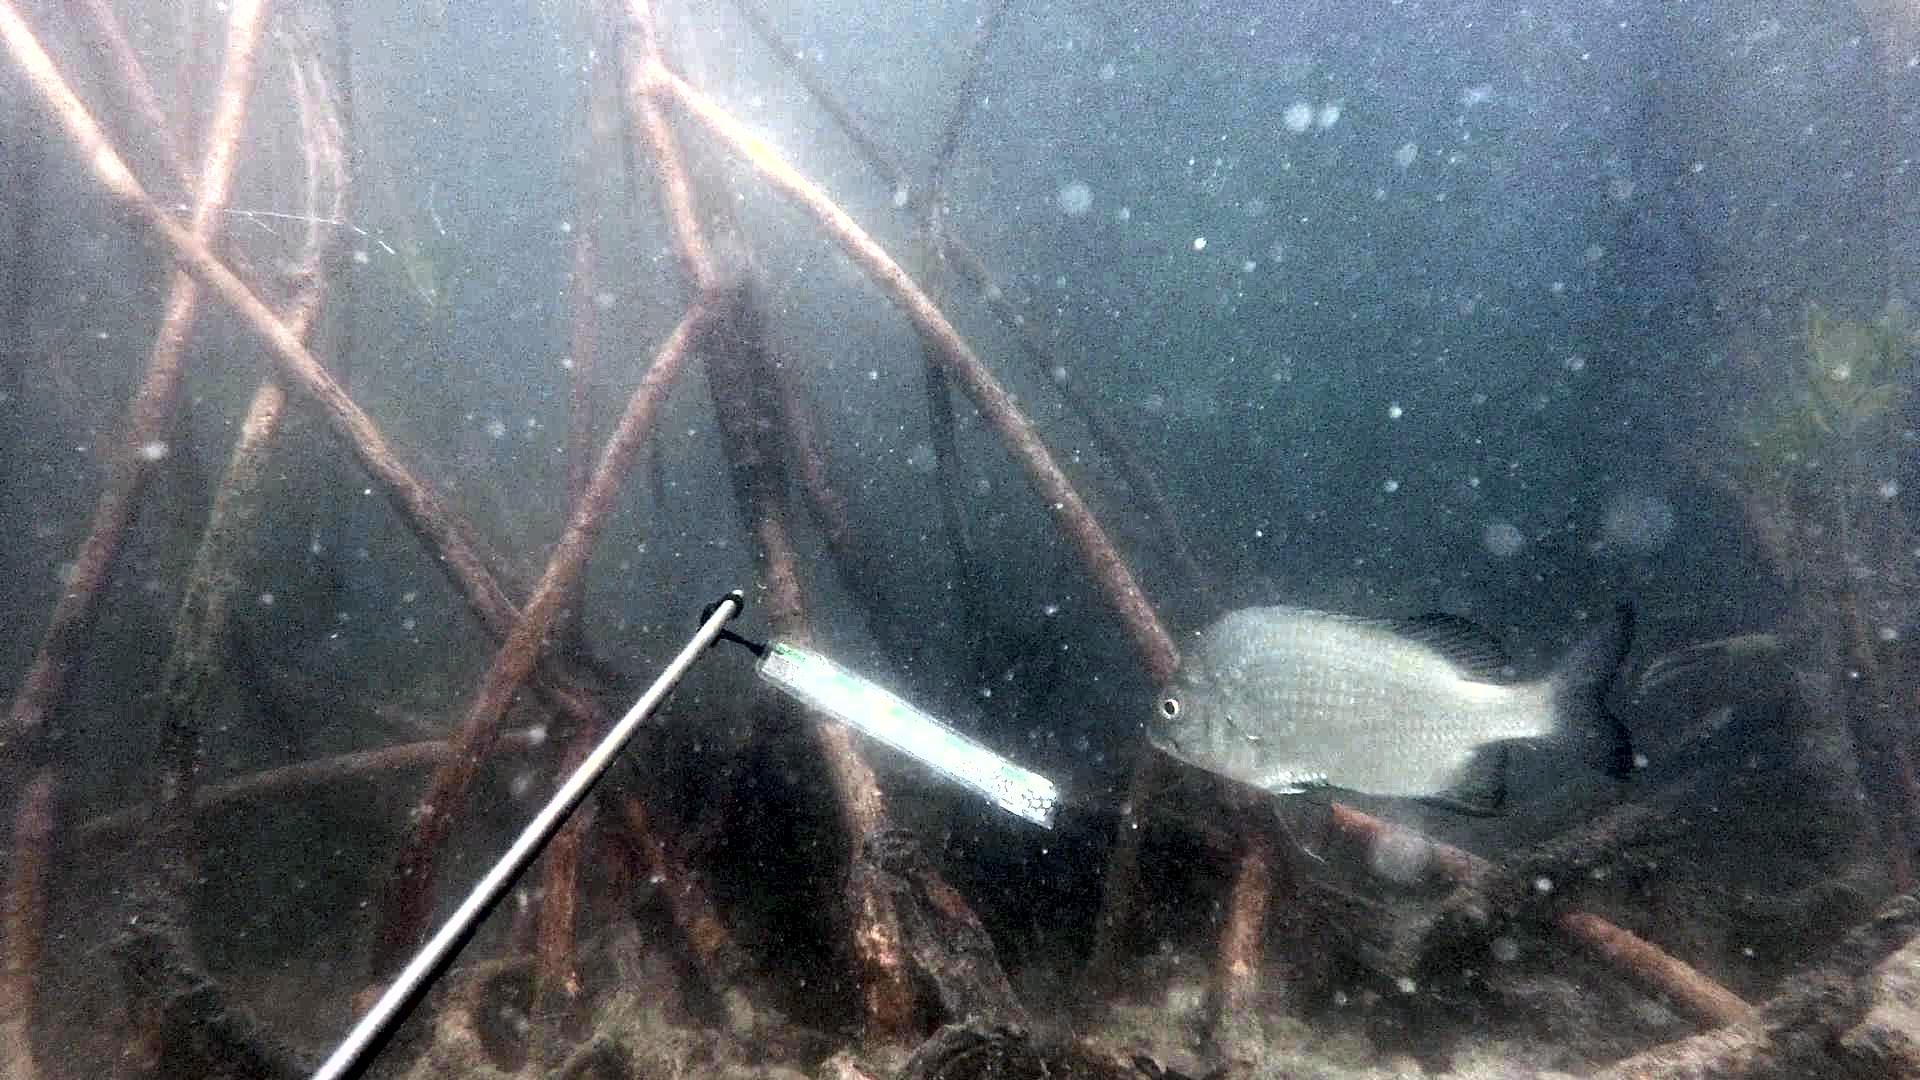acanthopagrus palmaris: (1133, 585, 1658, 870)
